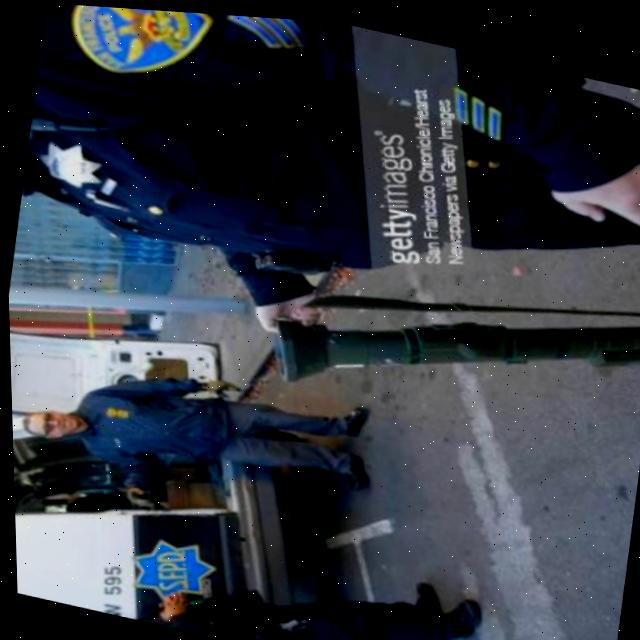rocket: (245, 220, 640, 458)
